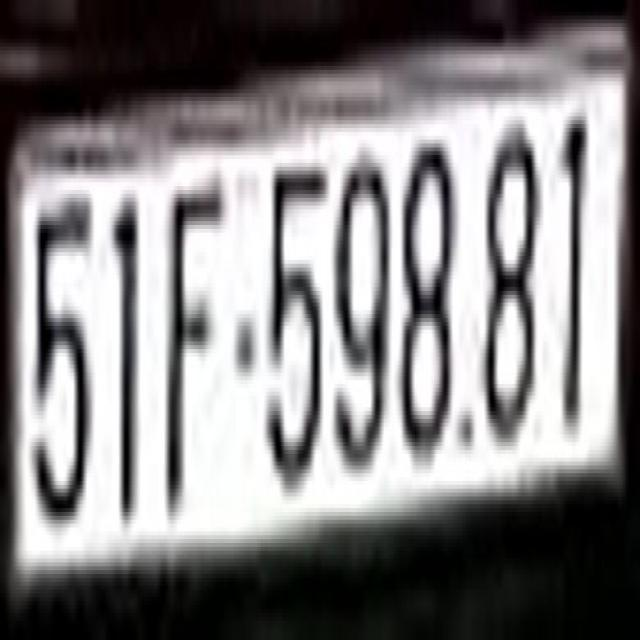1: (554, 97, 588, 423), (112, 186, 140, 516)
5: (36, 190, 90, 497), (270, 171, 324, 477)
8: (400, 132, 450, 454), (486, 108, 535, 426)
9: (334, 143, 386, 454)
F: (167, 155, 220, 520)
